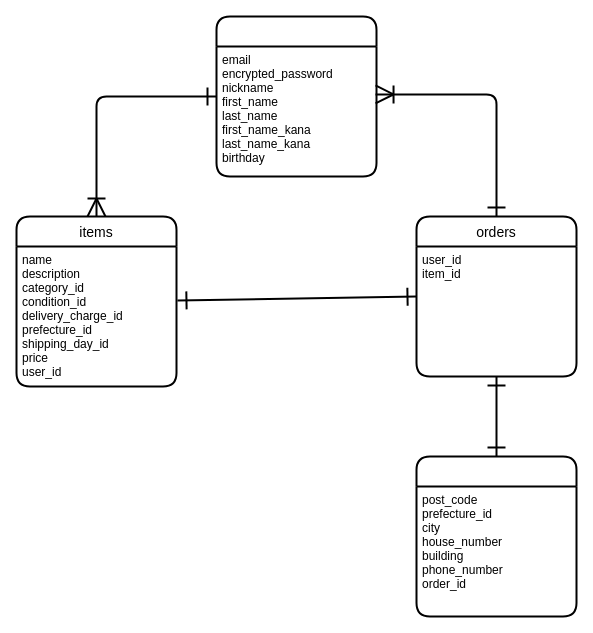
Some shapes in this 593 by 633 pixel diagram are drawn without their labels. Here are the shapes that lost their labels. From the top down, the box of each, then its label:
(215, 15, 377, 177): users
(415, 455, 577, 617): purchasers
